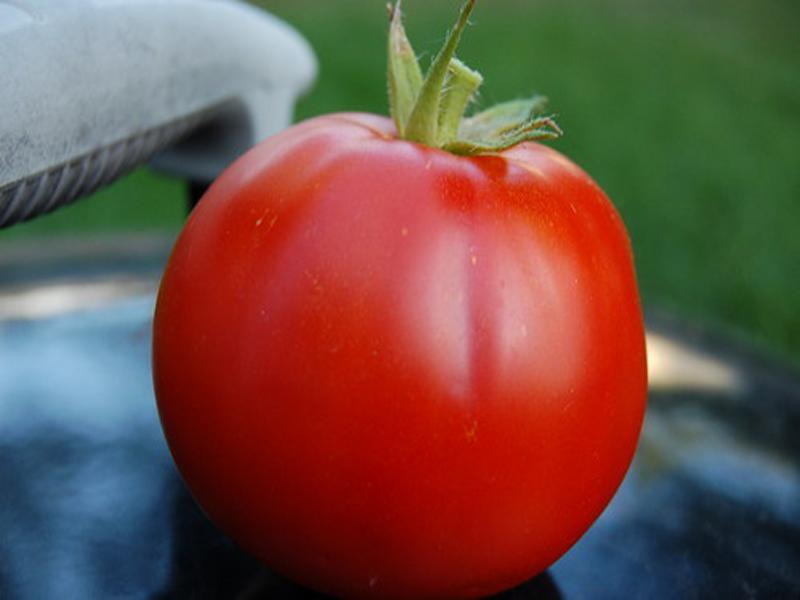Tomato: (151, 112, 648, 600)
